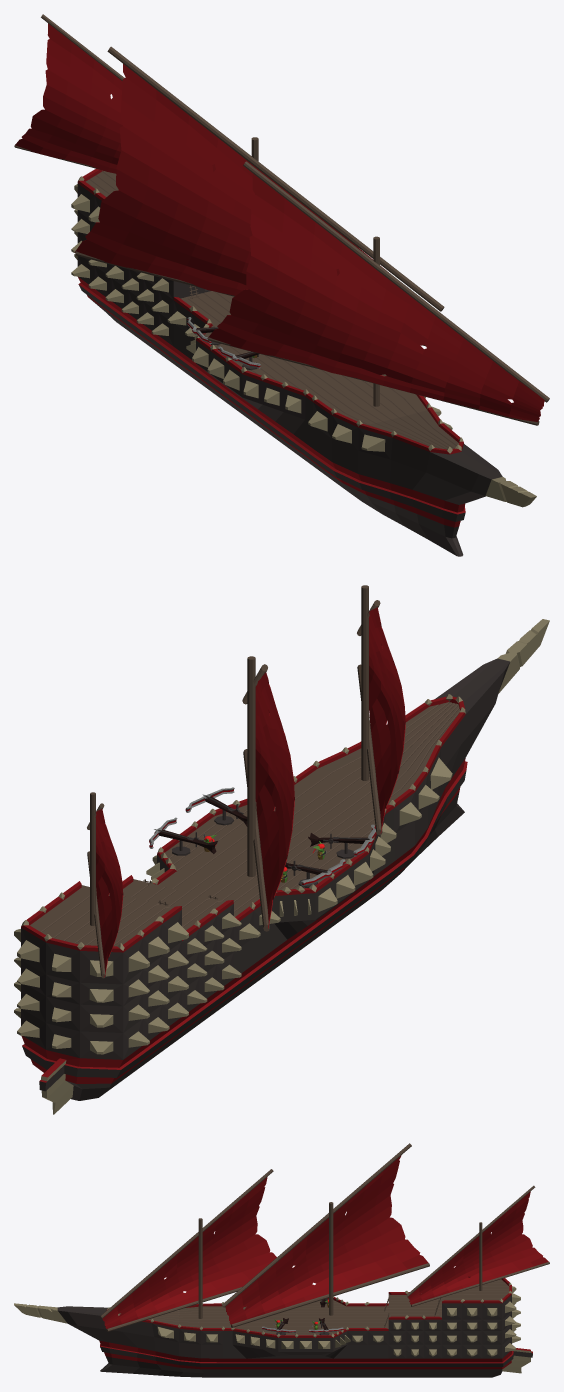
Rendered from goblin warship.fbx.
3 renders of one model, top to bottom at view 1: azimuth 30°, elevation 25°; view 2: azimuth 150°, elevation 25°; view 3: azimuth 270°, elevation 25°, orthographic. The views are drawn at different scales.
Parts seen in each view (by area): view 1: Cube; view 2: Cube; view 3: Cube.
Boxes of the visible parts, box(x1,y1,x2,y2) form: Cube: box(14, 14, 549, 556); Cube: box(14, 585, 549, 1114); Cube: box(14, 1143, 549, 1377).
Size of the model in its own units: 449 by 740 by 1763.
